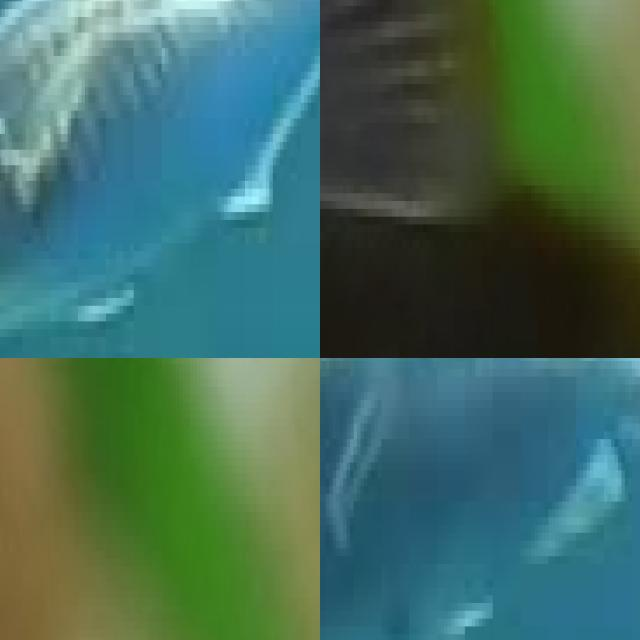fish: (0, 0, 320, 358), (320, 0, 548, 358)
